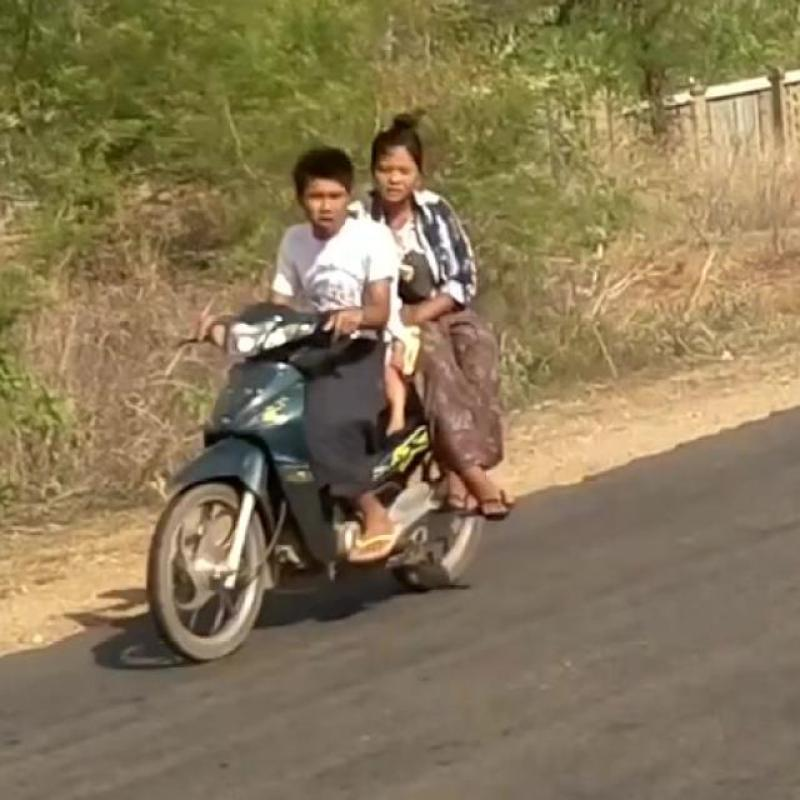nohelmet: (270, 112, 371, 236), (384, 101, 454, 234)
